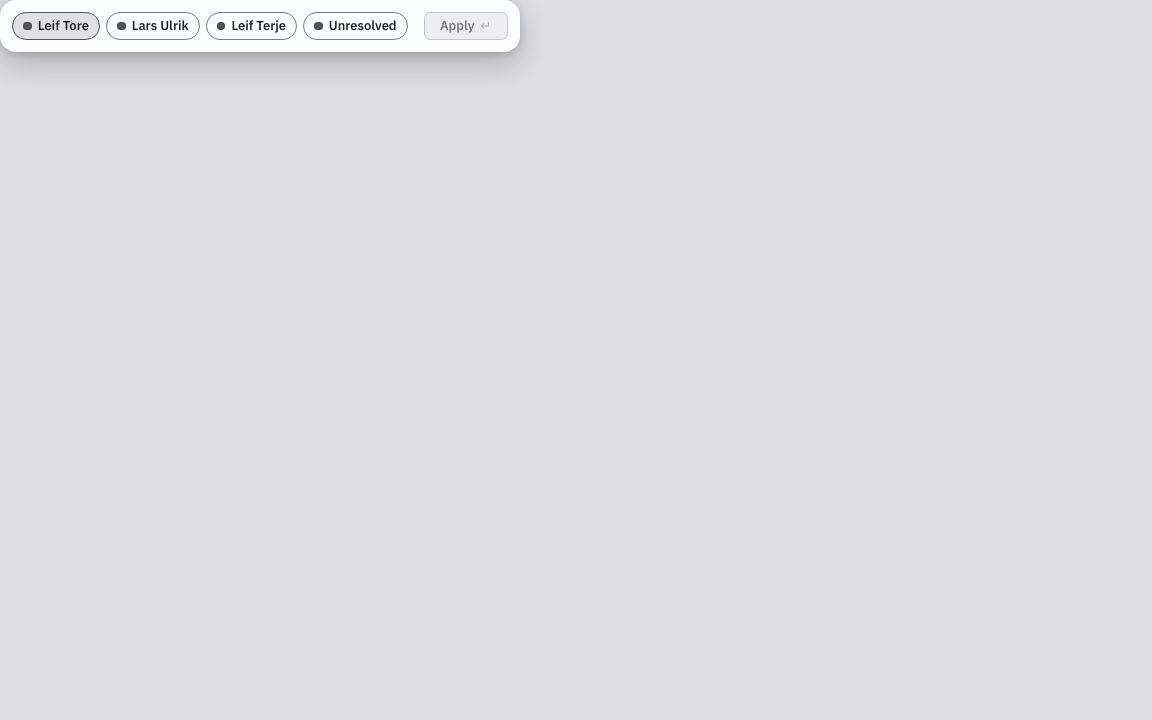
Test: PerformerPicker layout › keeps Apply gated until the performer selection actually changes
This screenshot has width=1152, height=720.
Expected: the button "Apply ↵" is disabled, x1=424 y1=12 x2=508 y2=40
Press Enter
Click the button "Lars Ulrik". click: [153, 26]
box: x1=106 y1=12 x2=200 y2=40
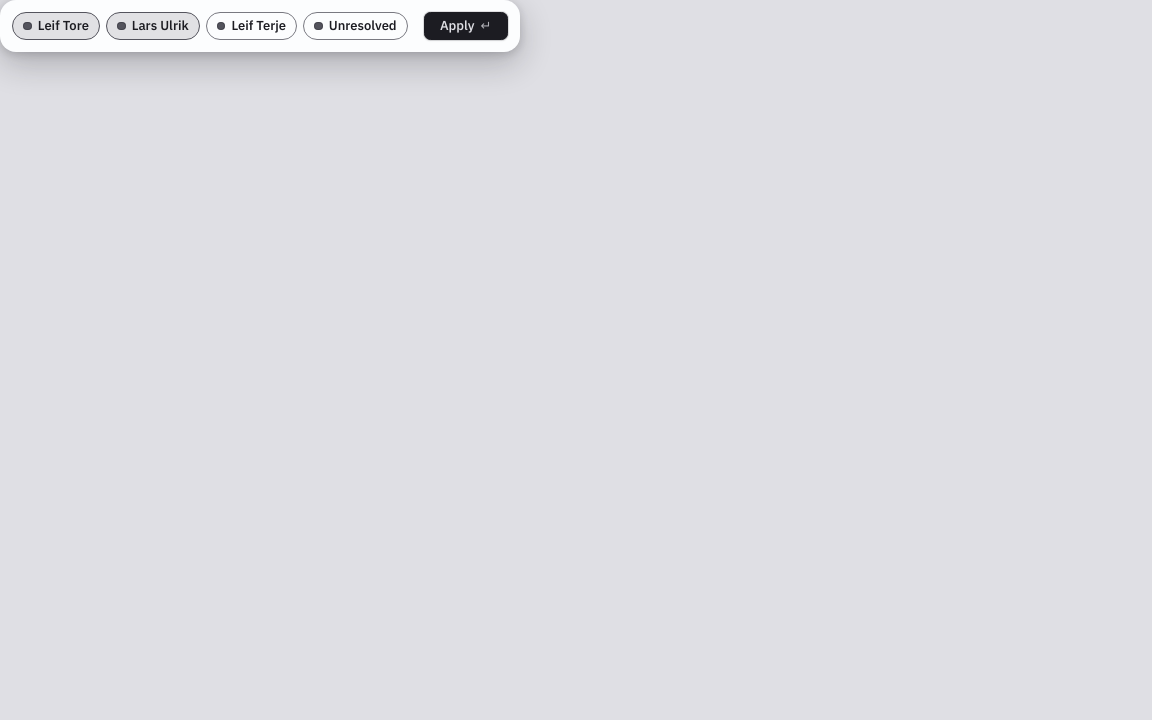
Expected: the button "Apply ↵" is enabled, x1=424 y1=12 x2=508 y2=40
Note: Returning to the original set makes the action inert again.
Click the button "Lars Ulrik". click: [153, 26]
box: x1=106 y1=12 x2=200 y2=40
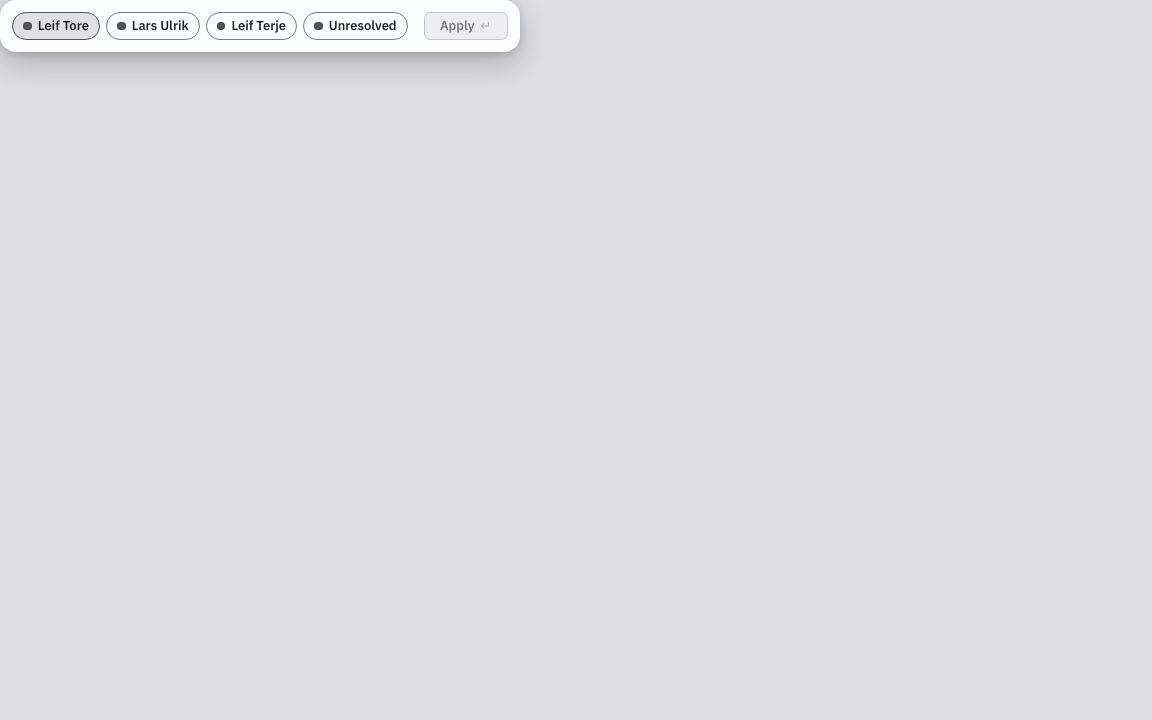
Expected: the button "Apply ↵" is disabled, x1=424 y1=12 x2=508 y2=40
